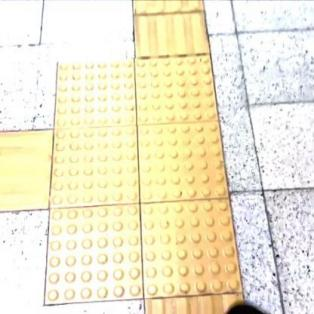Podoctatil: (33, 41, 250, 313)
